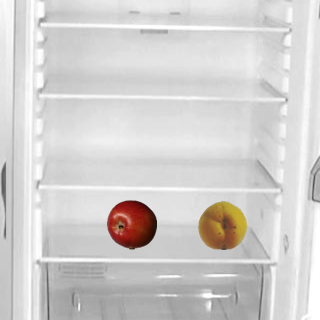Apple Braeburn: (106, 199, 156, 249)
Peach 2: (197, 199, 247, 249)
